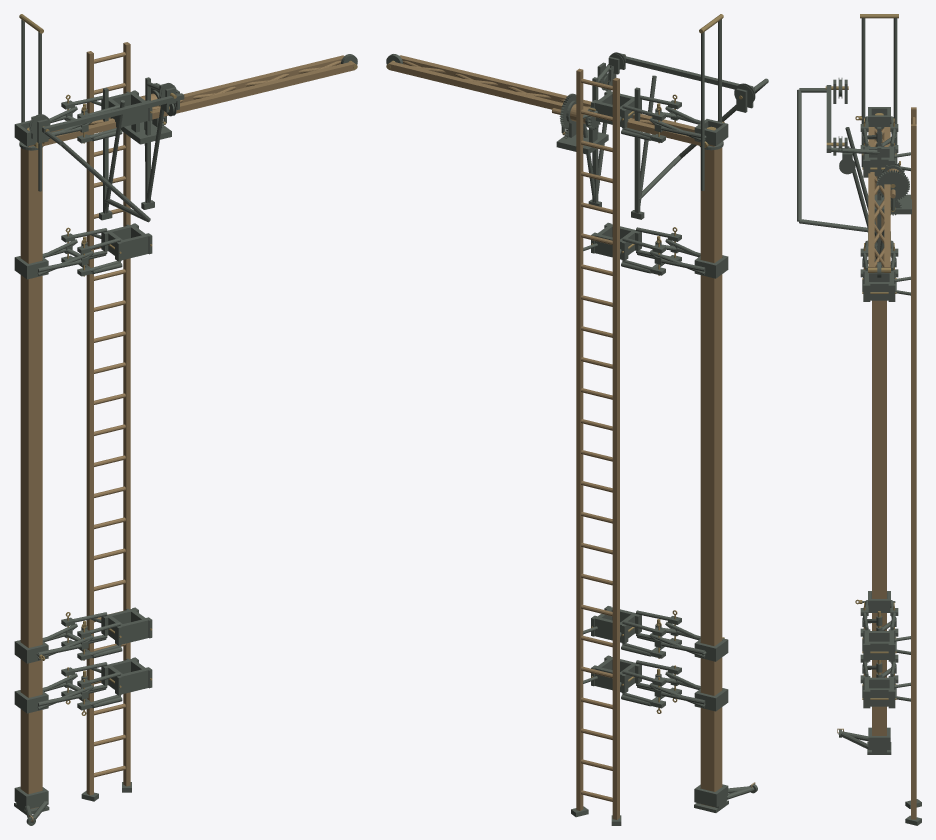
File: summit-gin-pole-climb.glb
The picture shows the model from 3 angles, left to right: view 1: azimuth 30°, elevation 25°; view 2: azimuth 150°, elevation 25°; view 3: azimuth 270°, elevation 25°; orthographic projection. The views are drawn at different scales.
Parts seen in each view (by area): view 1: timber-six-metre-pole.011, ladder-stile.022, ladder-stile.023, timber-jib-chord.023, timber-jib-chord.022, drive-top-crosshead.011; view 2: timber-six-metre-pole.011, ladder-stile.022, ladder-stile.023, timber-jib-chord.022, timber-jib-chord.023, drive-top-crosshead.011, drive-bearing-column.022; view 3: timber-six-metre-pole.011, ladder-stile.023, timber-jib-chord.023, timber-jib-chord.022, west-fairlead-brace.011, climb-output-gear-involute.010, luff-head-stay.023, luff-head-stay.022, drive-top-crosshead.011, winch-base.011, reaction-diagonal.022, west-fairlead-standoff (+5 smaller).
Boxes of the visible parts, box(x1,y1,x2,y2) form: timber-six-metre-pole.011: box(20, 145, 42, 808); ladder-stile.022: box(86, 51, 93, 795); ladder-stile.023: box(123, 42, 130, 786); timber-jib-chord.023: box(42, 61, 355, 146); timber-jib-chord.022: box(50, 55, 344, 132); drive-top-crosshead.011: box(42, 93, 184, 133); timber-six-metre-pole.011: box(700, 145, 722, 807); ladder-stile.022: box(612, 77, 619, 819); ladder-stile.023: box(576, 68, 583, 810); timber-jib-chord.022: box(388, 61, 700, 145); timber-jib-chord.023: box(400, 55, 694, 132); drive-top-crosshead.011: box(625, 56, 754, 91); drive-bearing-column.022: box(634, 87, 640, 213); timber-six-metre-pole.011: box(872, 129, 886, 735); ladder-stile.023: box(911, 124, 916, 819); timber-jib-chord.023: box(868, 127, 874, 272); timber-jib-chord.022: box(884, 127, 890, 272); west-fairlead-brace.011: box(797, 89, 801, 221); climb-output-gear-involute.010: box(876, 169, 909, 200); luff-head-stay.023: box(861, 18, 865, 166); luff-head-stay.022: box(893, 18, 897, 162); drive-top-crosshead.011: box(826, 85, 831, 152); winch-base.011: box(874, 194, 911, 214); reaction-diagonal.022: box(845, 127, 877, 242); west-fairlead-standoff: box(799, 219, 876, 232).
Size of the model in its own units: 3.31 by 7.3 by 1.09.
